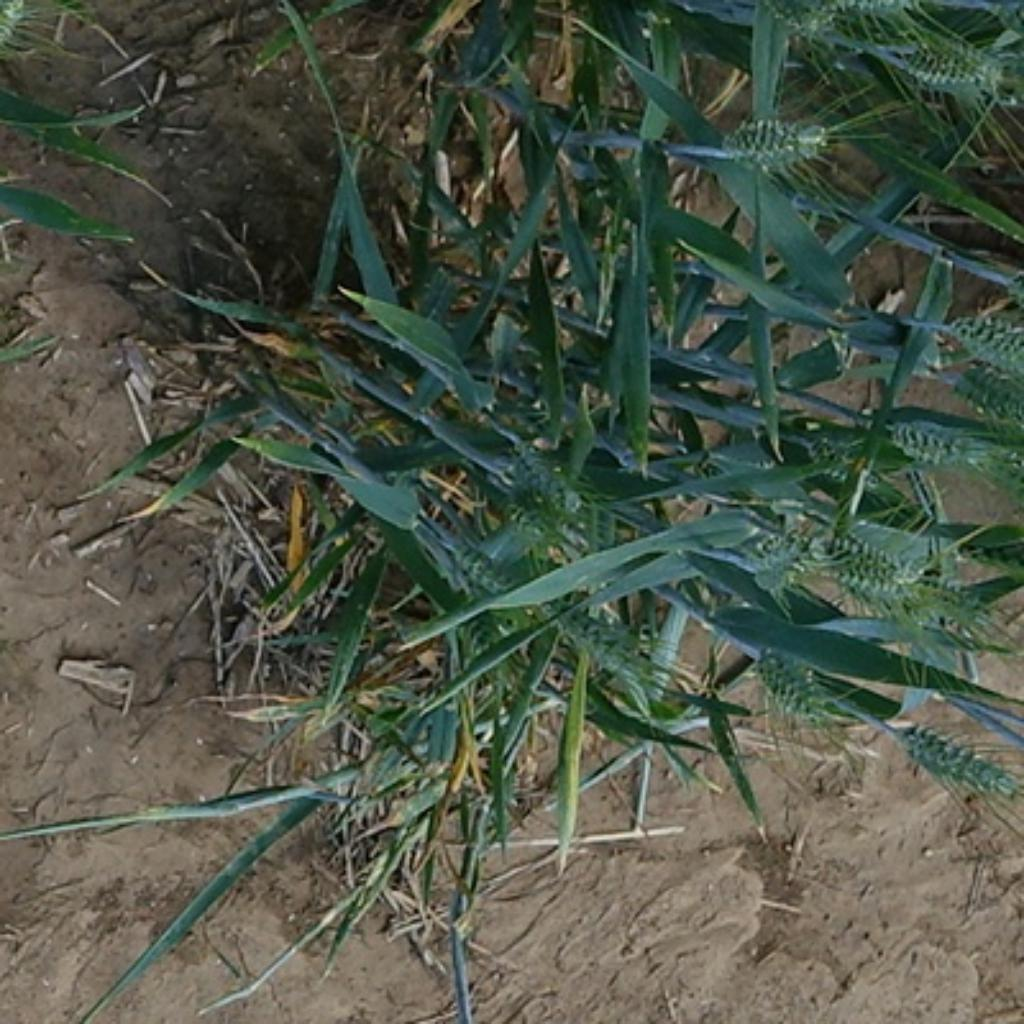0-0: (554, 596, 667, 700), (892, 707, 1014, 802), (489, 444, 591, 536), (452, 536, 554, 617), (715, 108, 834, 176), (752, 649, 842, 731), (739, 509, 829, 591), (807, 530, 903, 606), (908, 558, 989, 634), (885, 417, 1005, 467), (457, 600, 525, 685), (0, 0, 86, 66), (940, 361, 1024, 422), (917, 30, 1005, 82), (808, 431, 883, 490), (899, 46, 991, 90), (949, 315, 1024, 366), (747, 0, 834, 38), (819, 0, 934, 25)
